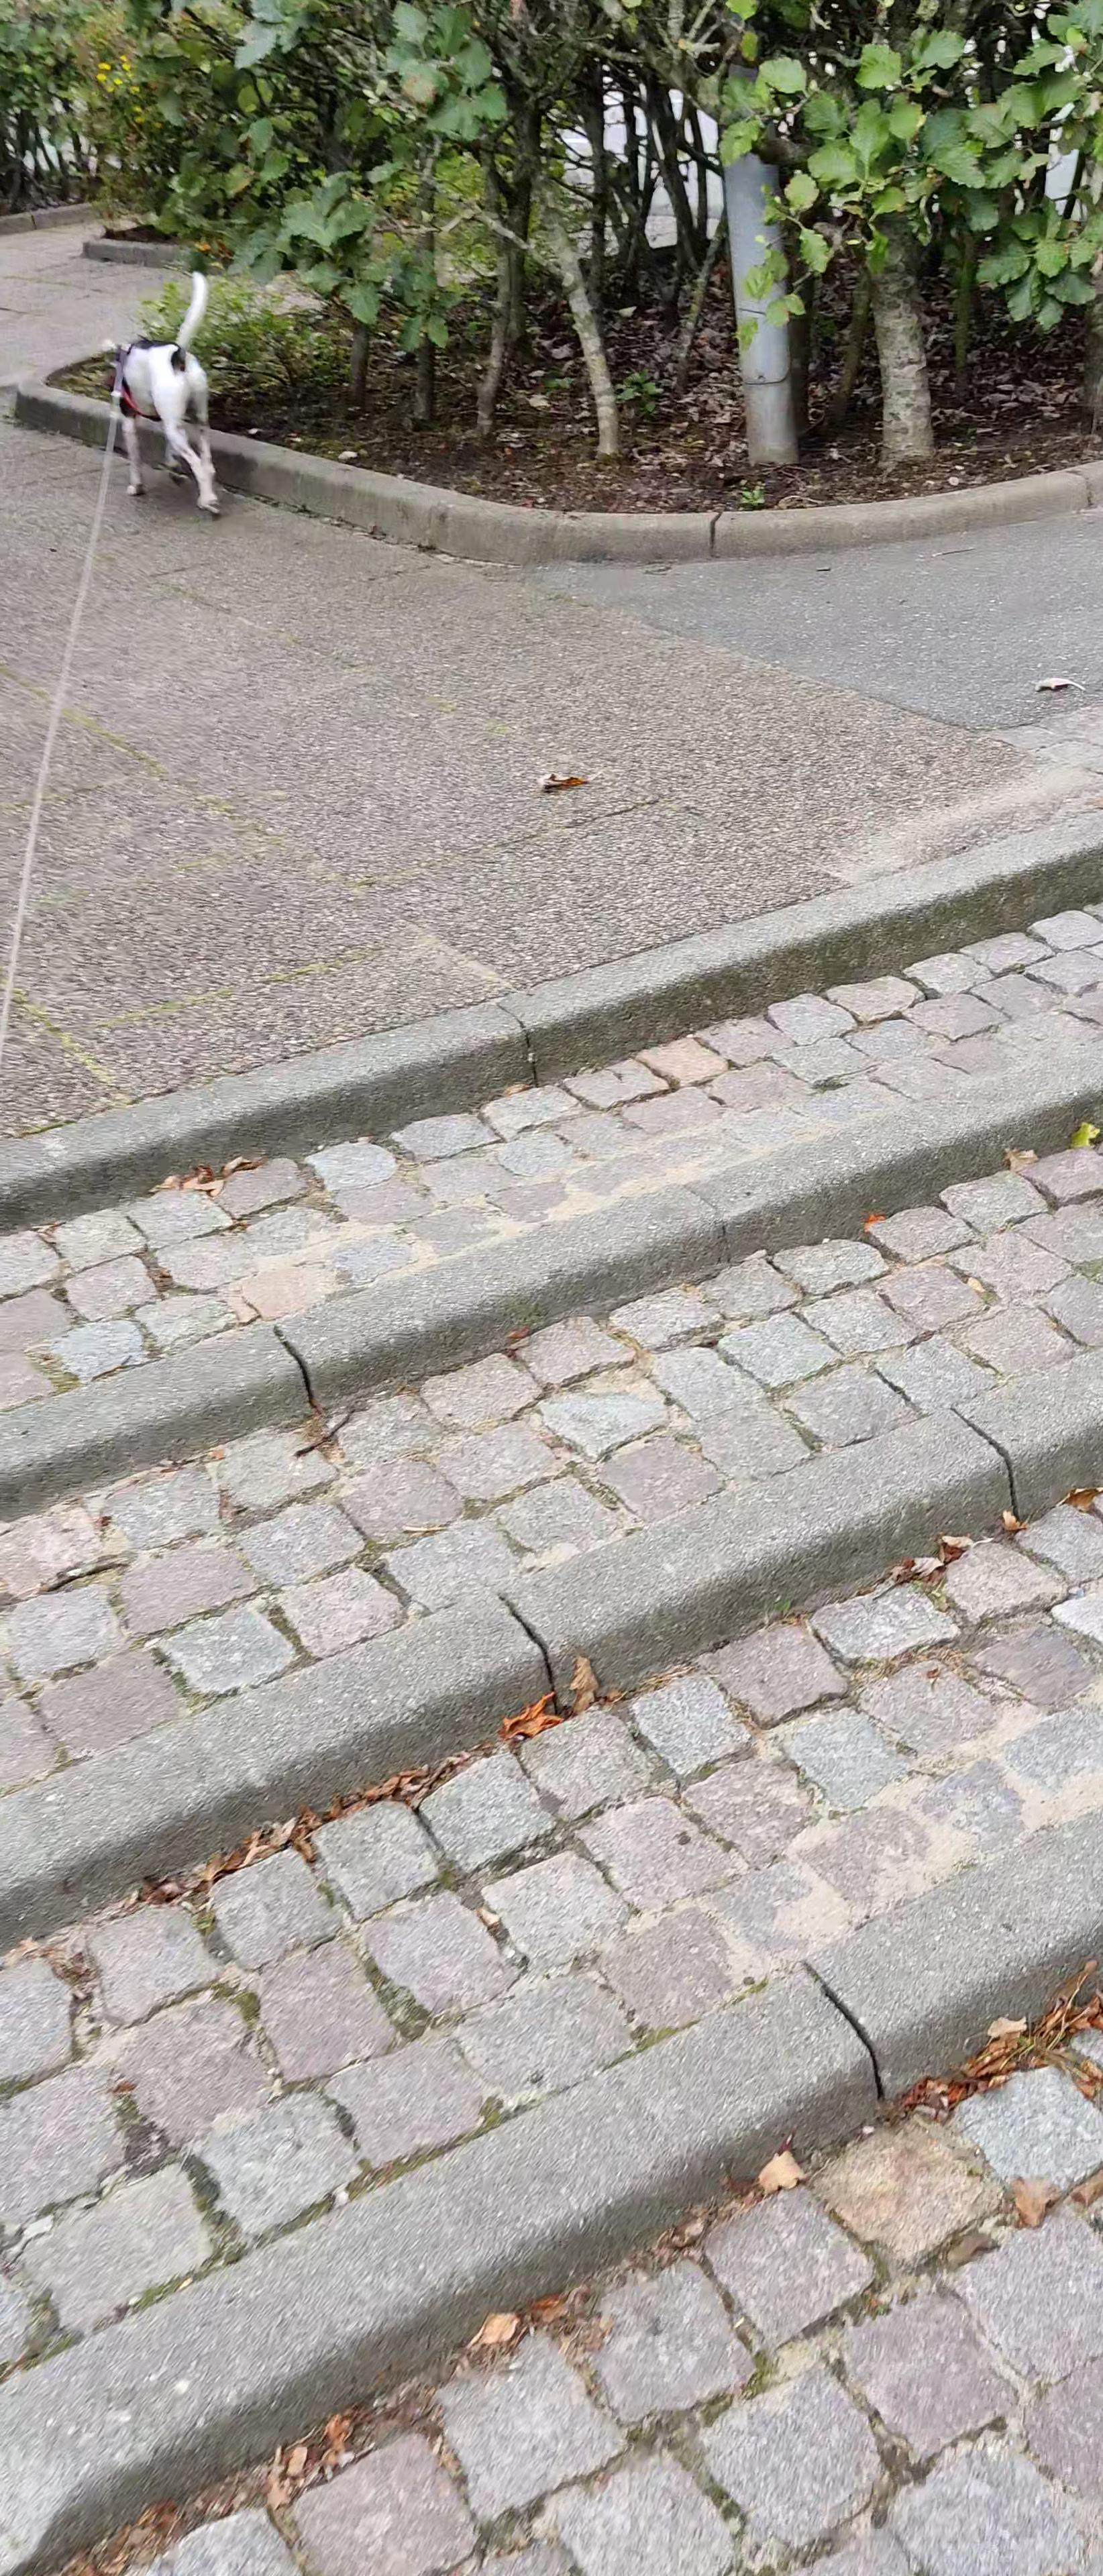Dog: (95, 258, 228, 519)
